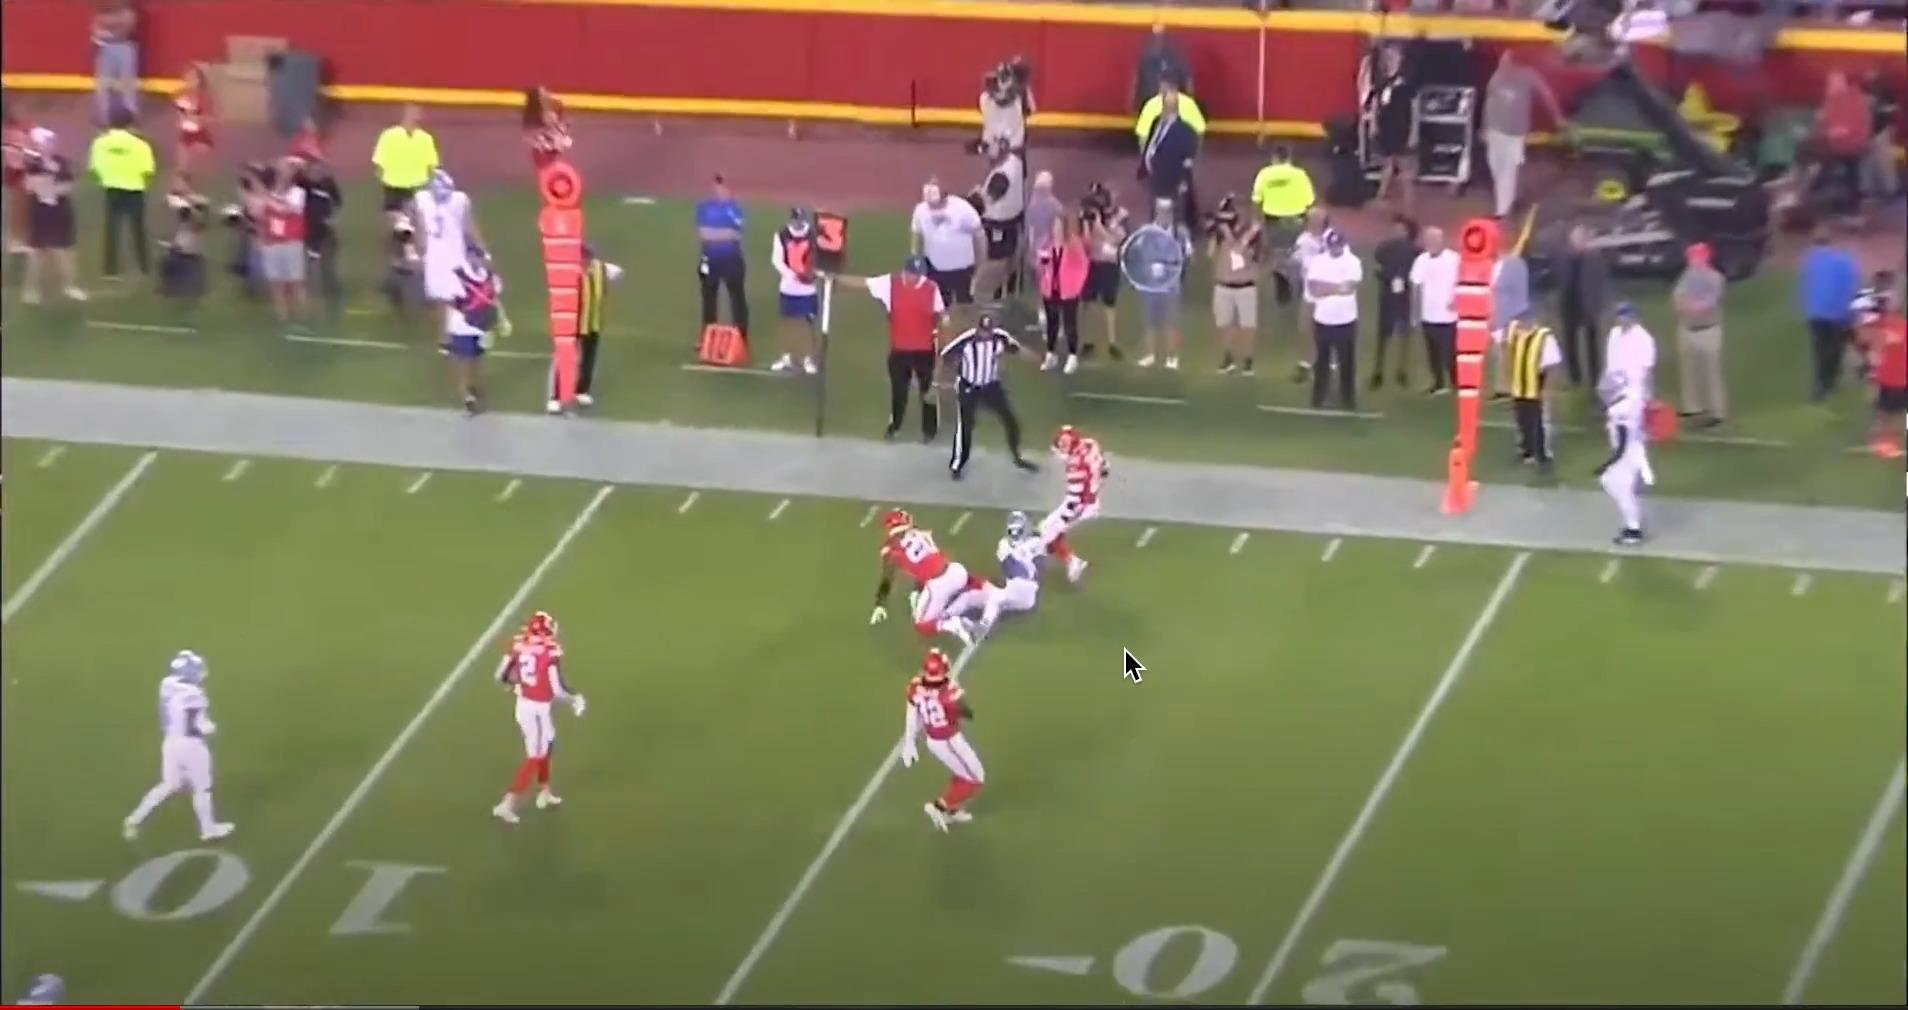player: (114, 644, 241, 848), (488, 599, 584, 830), (898, 660, 992, 837), (867, 503, 980, 650), (1583, 357, 1664, 560), (1016, 420, 1107, 587), (960, 507, 1049, 641)
ref: (939, 314, 1038, 485)
